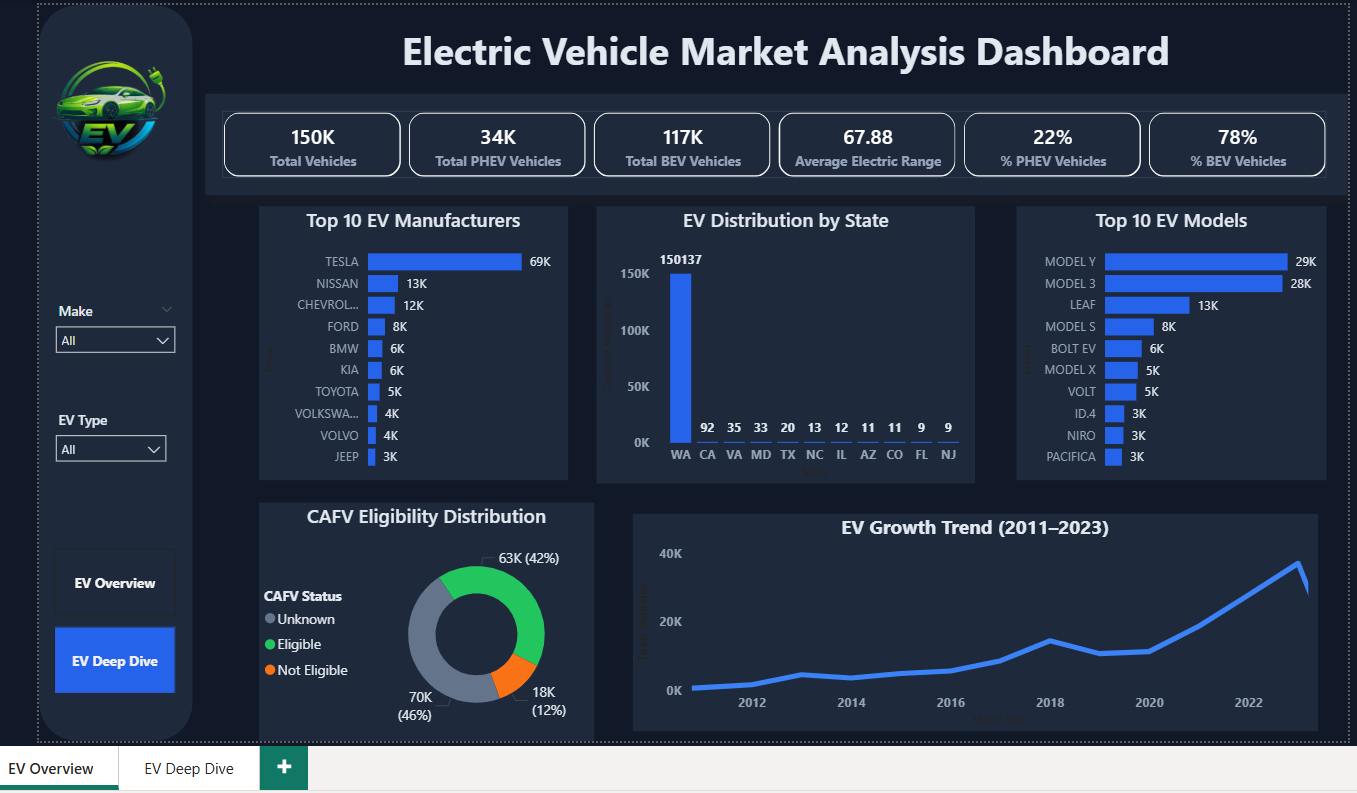

This screenshot's page, from the dashboard's own definition file:
{"tool":"powerbi","page":{"name":"EV Overview","canvas":[1280,720],"ordinal":0},"visuals":[{"type":"cardVisual","fields":{"Data":["Electric_Vehicle_Population_Dat.Total Vehicles","Electric_Vehicle_Population_Dat.Total PHEV Vehicles","Electric_Vehicle_Population_Dat.Total BEV Vehicles","Electric_Vehicle_Population_Dat.Average Electric Range","Electric_Vehicle_Population_Dat.% PHEV Vehicles","Electric_Vehicle_Population_Dat.% BEV Vehicles"]},"box":[162.6,86.8,1117.7,99],"z":0},{"type":"lineChart","title":"EV Growth Trend (2011–2023)","fields":{"Category":["Electric_Vehicle_Population_Dat.Model Year"],"Y":["CountNonNull(Electric_Vehicle_Population_Dat.Vehicle ID)"]},"box":[580.8,497.7,670.1,212.8],"z":1000},{"type":"shape","box":[0,0,150.4,720.2],"z":2000},{"type":"clusteredColumnChart","title":"EV Distribution by State","fields":{"Category":["Electric_Vehicle_Population_Dat.State"],"Y":["CountNonNull(Electric_Vehicle_Population_Dat.Vehicle ID)"]},"box":[545.4,196.9,370.5,271.5],"z":3000},{"type":"clusteredBarChart","title":"Top 10 EV Manufacturers","fields":{"Category":["Electric_Vehicle_Population_Dat.Make"],"Y":["CountNonNull(Electric_Vehicle_Population_Dat.Vehicle ID)"]},"box":[215.2,196.9,302,267.8],"z":4000},{"type":"donutChart","title":"CAFV Eligibility Distribution","fields":{"Category":["Electric_Vehicle_Population_Dat.CAFV Status (Short)"],"Y":["CountNonNull(Electric_Vehicle_Population_Dat.Vehicle ID)"]},"box":[215.2,486.7,327.7,233.6],"z":5000},{"type":"clusteredBarChart","title":"Top 10 EV Models","fields":{"Category":["Electric_Vehicle_Population_Dat.Model"],"Y":["CountNonNull(Electric_Vehicle_Population_Dat.Vehicle ID)"]},"box":[956.3,196.9,303.3,267.8],"z":6000},{"type":"textbox","box":[181,13.5,1099.3,64.8],"z":7000},{"type":"slicer","fields":{"Values":["Electric_Vehicle_Population_Dat.Make"]},"box":[6.1,284.9,137,74.6],"z":8000},{"type":"slicer","fields":{"Values":["Electric_Vehicle_Population_Dat.Electric Vehicle Type"]},"box":[6.1,391.3,128.4,77],"z":9000},{"type":"pageNavigator","box":[14.1,532.4,119.7,143.7],"z":10000},{"type":"image","box":[0,35.5,134.5,134.5],"z":11000}]}

Visuals, with their boxes on the page's 1280x720 design canvas (x1, y1, x2, y2). These are canvas units, not pixel positions in the 1357x793 screenshot, which may show the page scaled, cropped or inside an application window:
cardVisual - Electric_Vehicle_Population_Dat.Total Vehicles x Electric_Vehicle_Population_Dat.Total PHEV Vehicles: bbox=(163, 87, 1280, 186)
"EV Growth Trend (2011–2023)" lineChart: bbox=(581, 498, 1251, 710)
shape: bbox=(0, 0, 150, 720)
"EV Distribution by State" clusteredColumnChart: bbox=(545, 197, 916, 468)
"Top 10 EV Manufacturers" clusteredBarChart: bbox=(215, 197, 517, 465)
"CAFV Eligibility Distribution" donutChart: bbox=(215, 487, 543, 720)
"Top 10 EV Models" clusteredBarChart: bbox=(956, 197, 1260, 465)
textbox: bbox=(181, 14, 1280, 78)
slicer - Electric_Vehicle_Population_Dat.Make: bbox=(6, 285, 143, 360)
slicer - Electric_Vehicle_Population_Dat.Electric Vehicle Type: bbox=(6, 391, 134, 468)
pageNavigator: bbox=(14, 532, 134, 676)
image: bbox=(0, 36, 134, 170)
